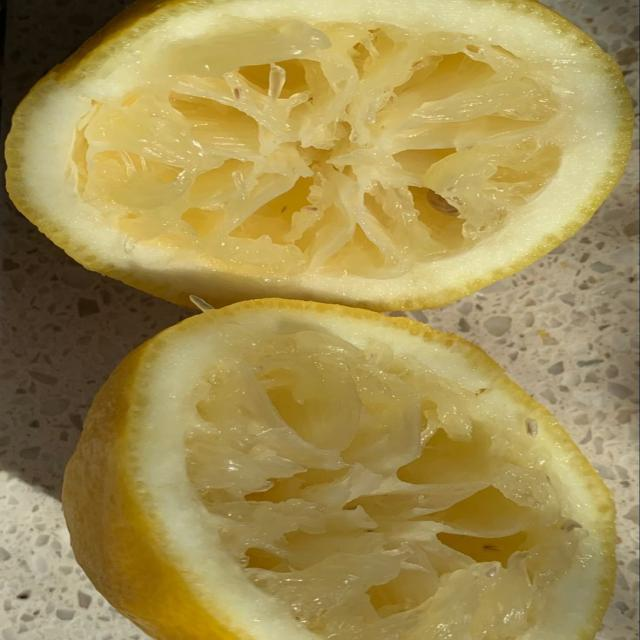lemon: (7, 0, 632, 308), (63, 300, 614, 639)
